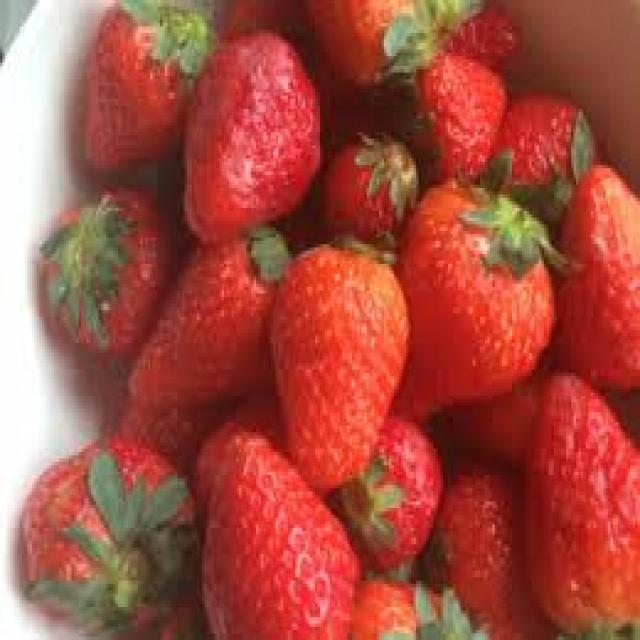organic waste: (391, 148, 564, 412), (190, 409, 354, 637), (17, 436, 202, 636), (268, 234, 409, 492), (123, 225, 291, 412), (522, 366, 637, 637), (177, 23, 318, 244), (421, 452, 556, 637), (78, 0, 212, 165), (39, 185, 175, 346), (549, 158, 637, 392), (332, 416, 441, 570), (480, 83, 591, 221), (406, 50, 507, 182), (312, 128, 418, 248), (302, 0, 435, 92), (347, 567, 490, 637), (443, 370, 542, 465), (379, 0, 478, 73), (101, 392, 219, 446), (441, 0, 524, 66), (214, 0, 310, 36)
